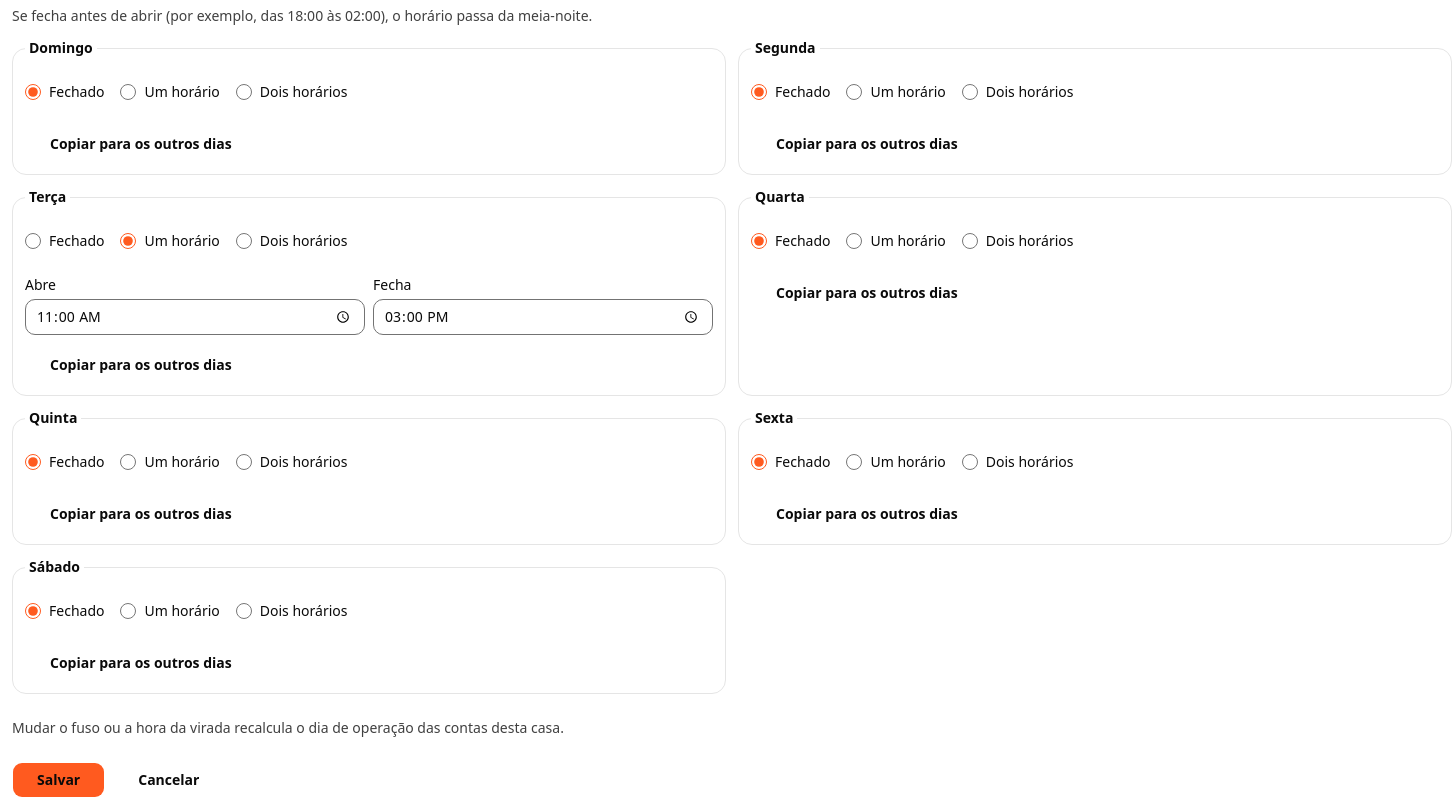
formulário do restaurante (cadastro e edição) › na edição, outro erro do servidor continua sendo erro e não sai da tela
(page scrolled)
What coordinates should you click on to do the following:
click the button "Salvar"
I would click on:
 (59, 780)
Its box is [12,762,105,797].
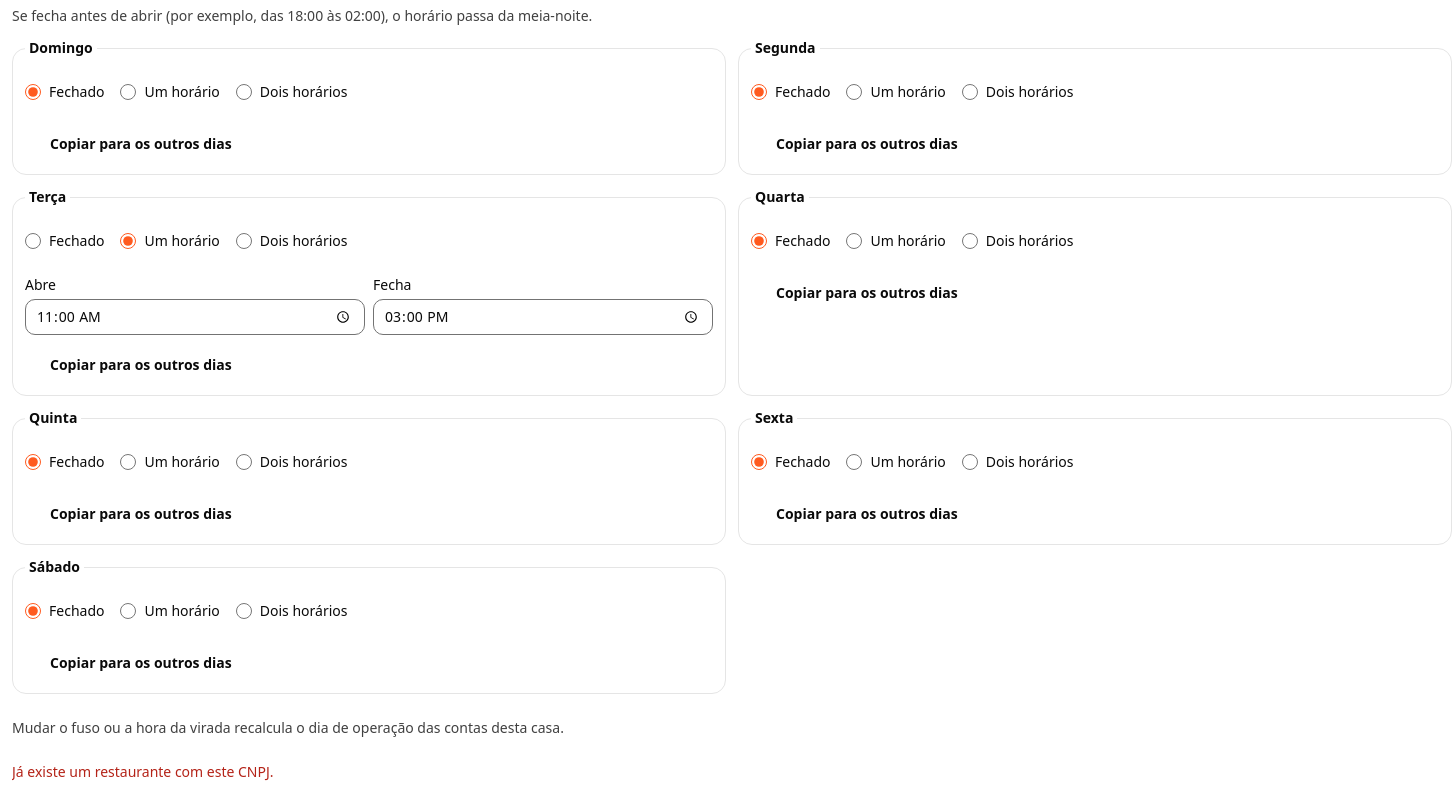
Expected: the message reads "Já existe um restaurante com este CNPJ.", [12,762,274,781]
